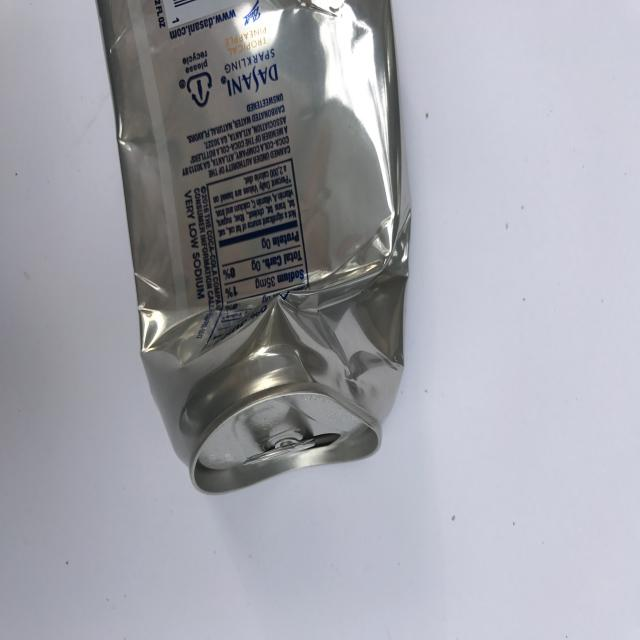Metal: (82, 0, 445, 494)
